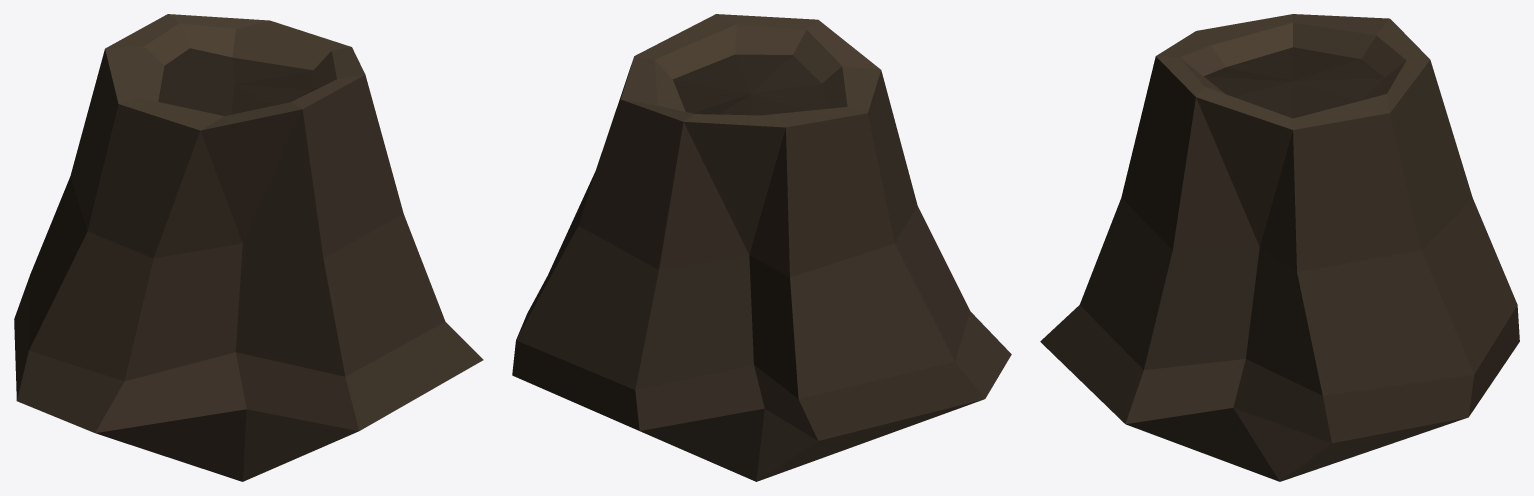
3 views of the same model, side by side, from view 1: azimuth 30°, elevation 25°; view 2: azimuth 150°, elevation 25°; view 3: azimuth 270°, elevation 25° (orthographic).
Visible parts, largest first — view 1: SM_Tree_Stump_01; view 2: SM_Tree_Stump_01; view 3: SM_Tree_Stump_01.
Boxes of the visible parts, bbox=[...] form: SM_Tree_Stump_01: bbox=[14, 14, 483, 481]; SM_Tree_Stump_01: bbox=[512, 14, 1011, 481]; SM_Tree_Stump_01: bbox=[1040, 14, 1519, 481].
Size of the model in its own units: 0.867 by 0.8029 by 0.821.
1 material, 1 textured.
